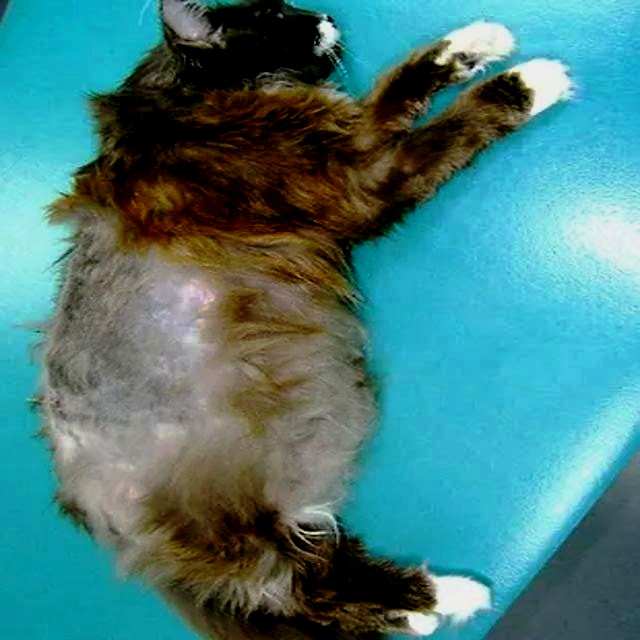hairloss: (57, 244, 191, 530), (261, 302, 352, 502)
